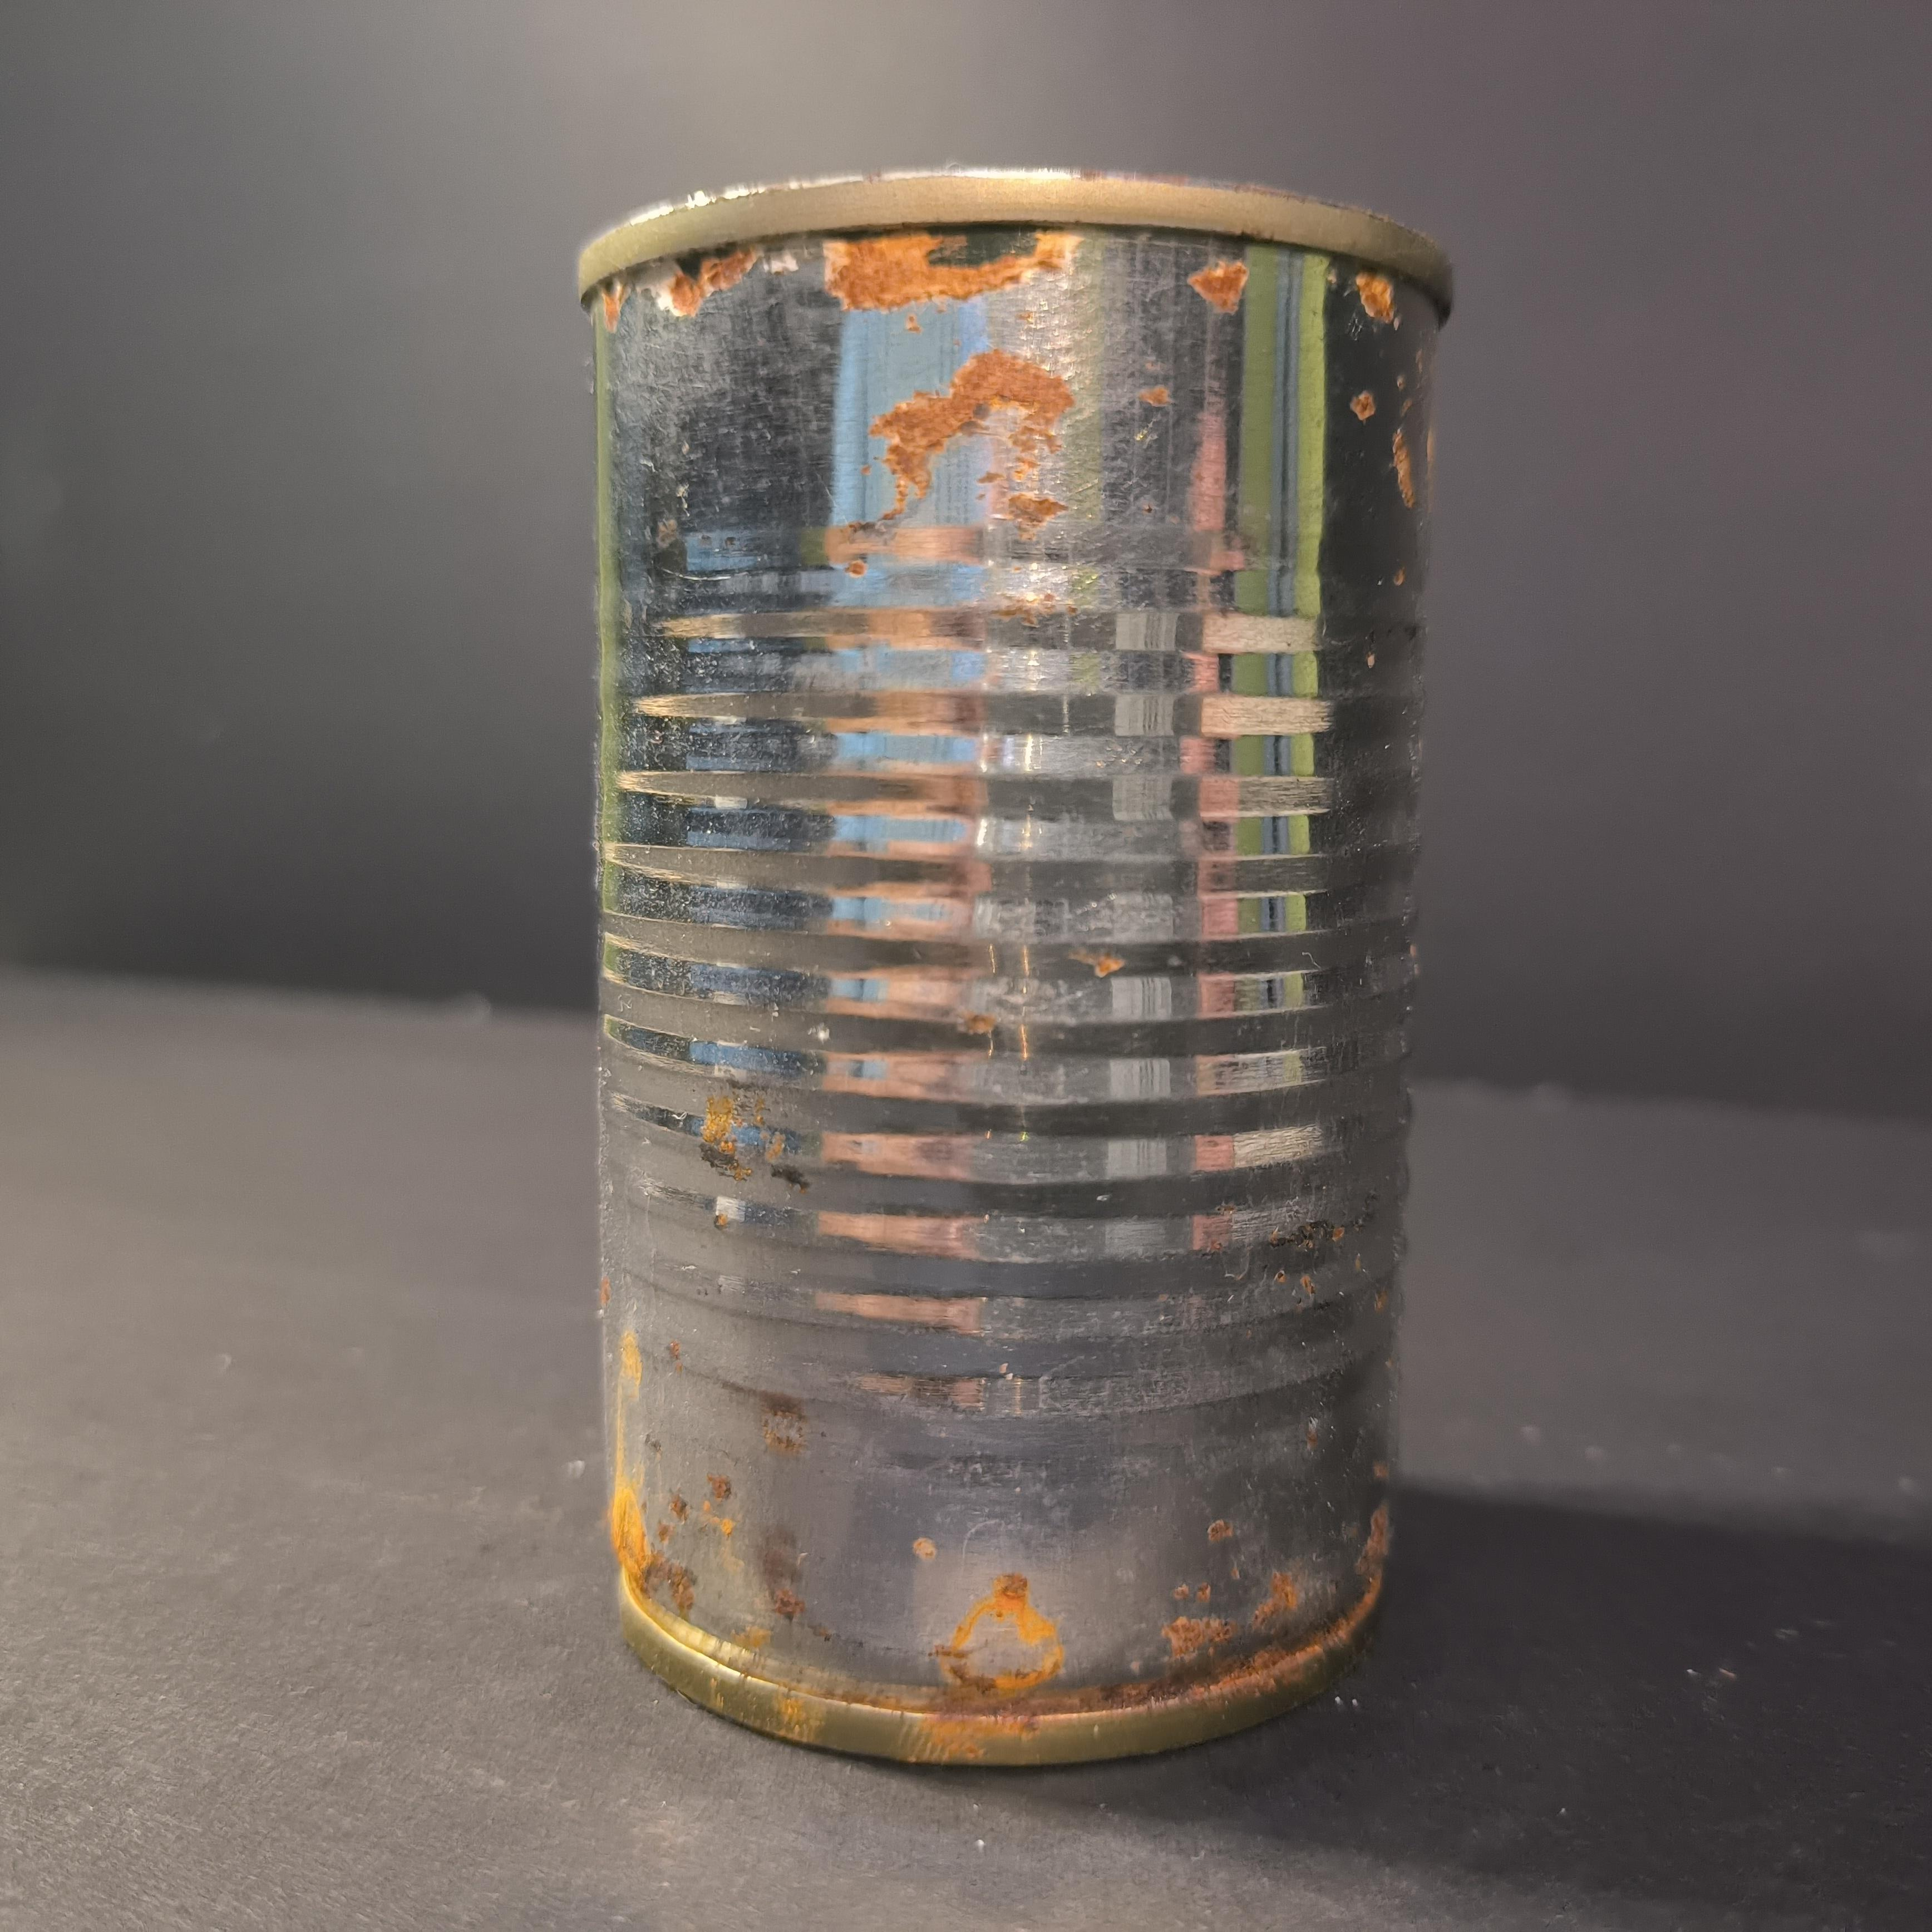Rusted: (563, 156, 1444, 1792)
